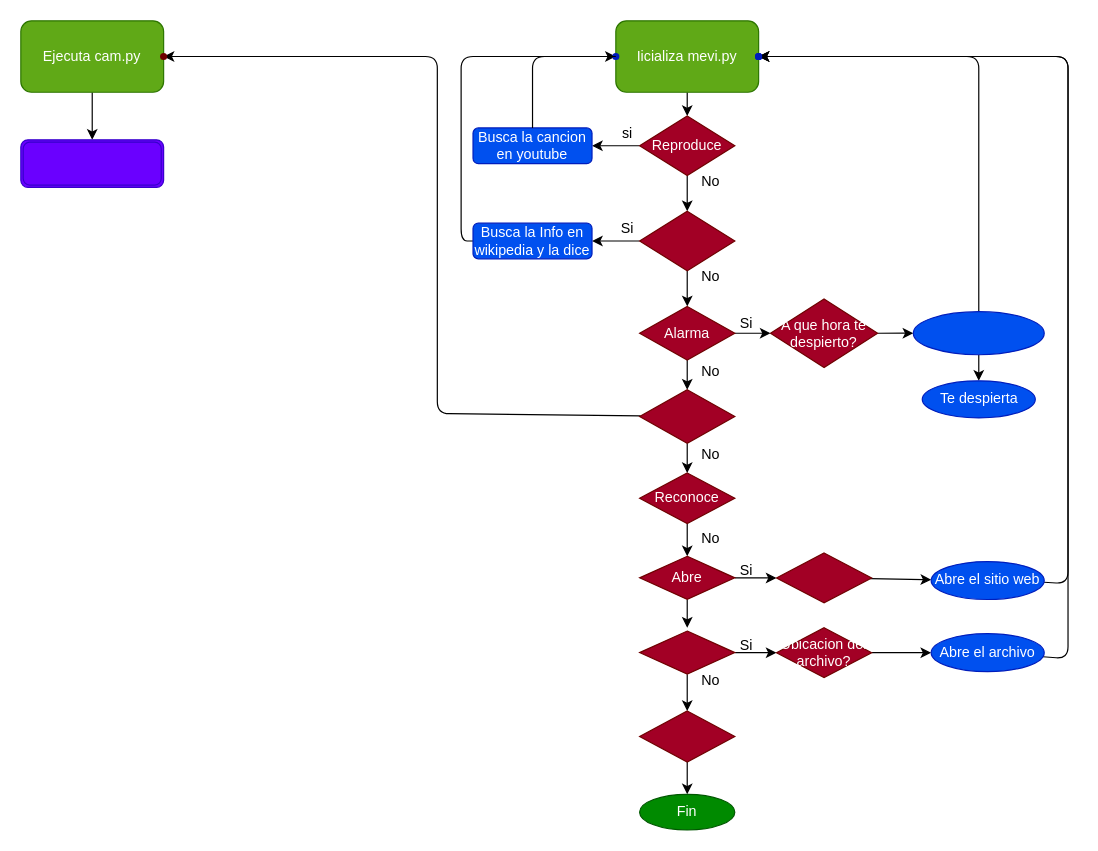
The diagram is 1098 pixels wide and 851 high, and some of its shapes have lost their labels. The shapes that lost their labels are listed below. From the top down, each one's centre as x and y in pixels, then its label:
At point 92,163: "Escala de colores".
At point 686,240: "Busca".
At point 978,332: "Guarda alarma en memoria".
At point 686,416: "Colores".
At point 823,577: "URL del sitio?".
At point 686,652: "Archivo".
At point 686,736: "Adios".
